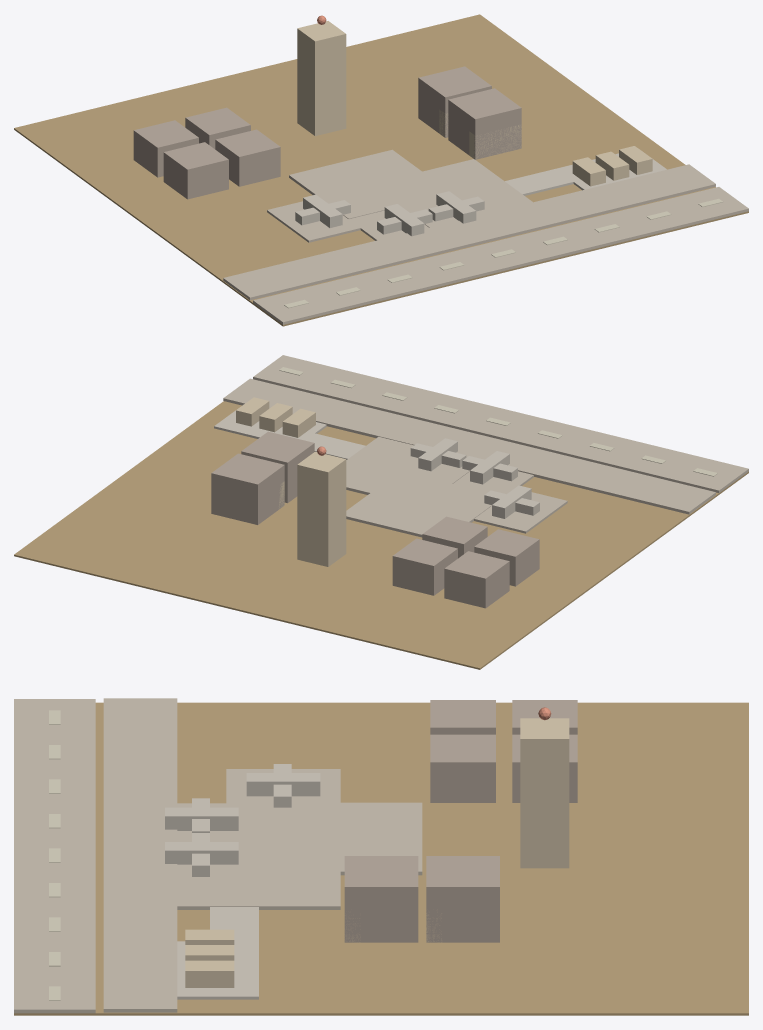
The model's file is stage_15.glb.
3 renders of one model, top to bottom at view 1: azimuth 30°, elevation 25°; view 2: azimuth 150°, elevation 25°; view 3: azimuth 270°, elevation 25°, orthographic. The views are drawn at different scales.
Visible parts, largest first — view 1: geometry_0; view 2: geometry_0; view 3: geometry_0.
Boxes of the visible parts, x1=… form: geometry_0: x1=14, y1=14, x2=748, y2=326; geometry_0: x1=14, y1=355, x2=748, y2=669; geometry_0: x1=14, y1=698, x2=748, y2=1015.
Bounding box in the file's own units: 9 × 2.06 × 9.
